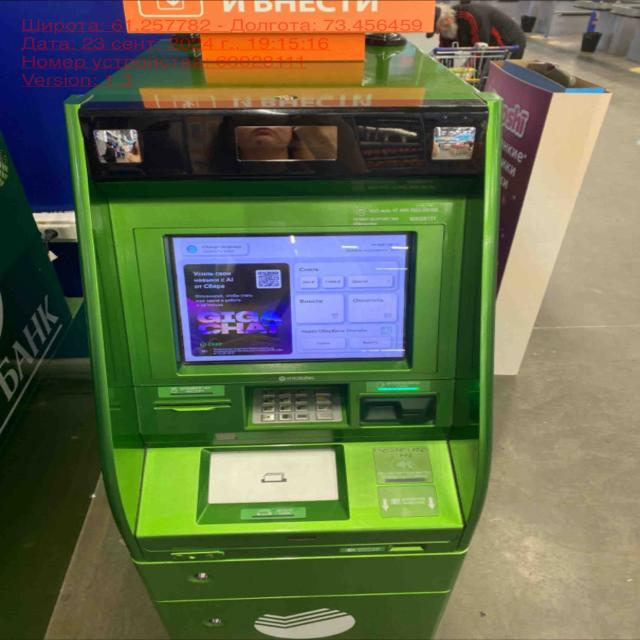bank: (69, 0, 500, 640), (0, 131, 93, 640)
